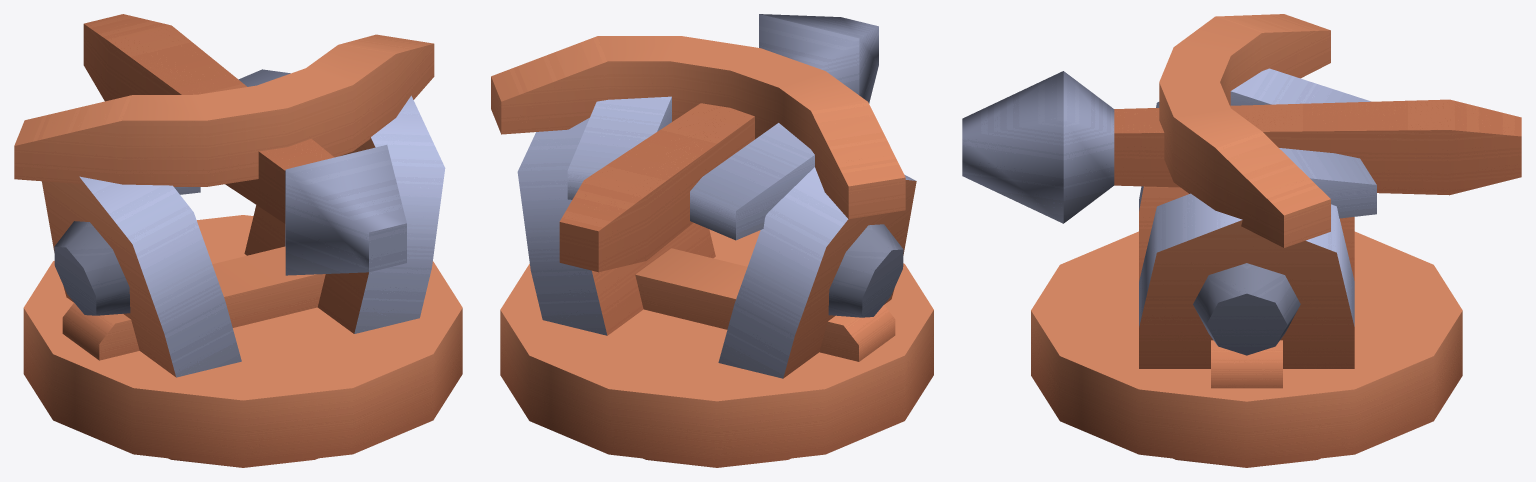
The model's file is weapon-ballista.glb.
The picture shows the model from 3 angles, left to right: view 1: azimuth 30°, elevation 25°; view 2: azimuth 150°, elevation 25°; view 3: azimuth 270°, elevation 25°; orthographic projection.
Parts seen in each view (by area): view 1: weapon-ballista, weapon-ballista.001; view 2: weapon-ballista, weapon-ballista.001; view 3: weapon-ballista, weapon-ballista.001.
Boxes of the visible parts, x1,y1,x2,y2 form: weapon-ballista: [23, 95, 462, 467]; weapon-ballista.001: [14, 14, 434, 275]; weapon-ballista: [500, 117, 933, 467]; weapon-ballista.001: [491, 14, 905, 272]; weapon-ballista: [1031, 102, 1462, 467]; weapon-ballista.001: [962, 14, 1521, 247].
Size of the model in its own units: 1.99 by 1.5 by 2.33.
1 material, 1 textured.
